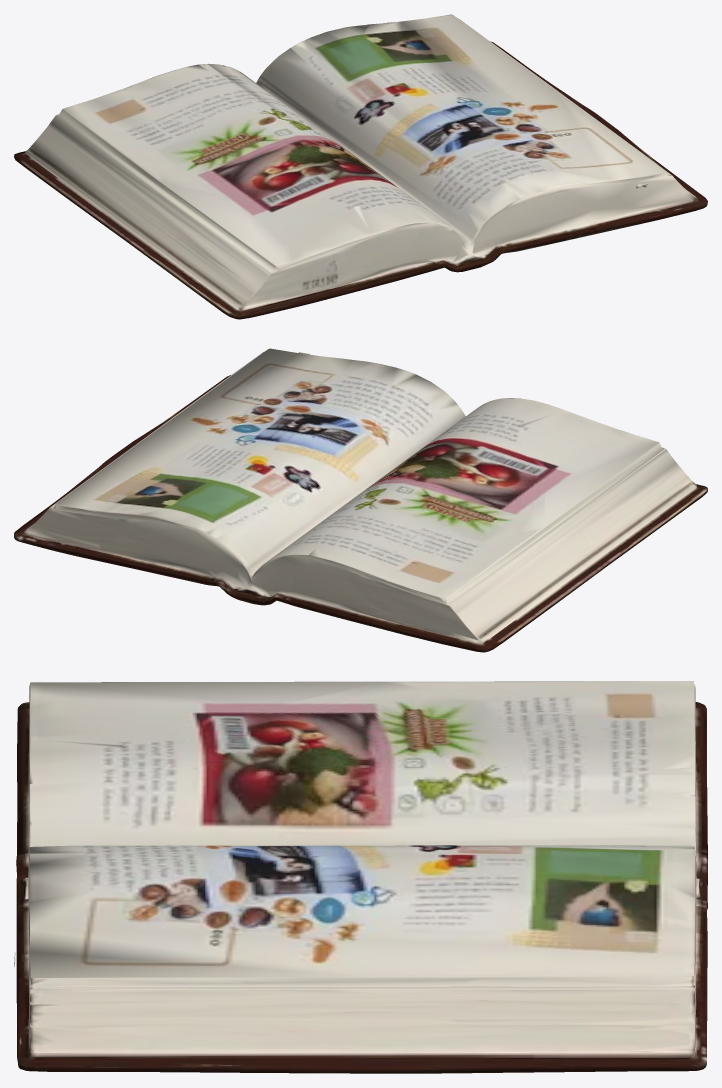
File: book.glb
The picture shows the model from 3 angles, top to bottom: view 1: azimuth 30°, elevation 25°; view 2: azimuth 150°, elevation 25°; view 3: azimuth 270°, elevation 25°; orthographic projection. The views are drawn at different scales.
Visible parts, largest first — view 1: node_0; view 2: node_0; view 3: node_0.
Part boxes in pixels (x1,y1,x2,y2): node_0: (14,14,707,319); node_0: (14,348,707,652); node_0: (14,681,707,1073).
Bounding box in the file's own units: 0.9479 × 0.1164 × 0.7614.
1 material, 1 textured.
